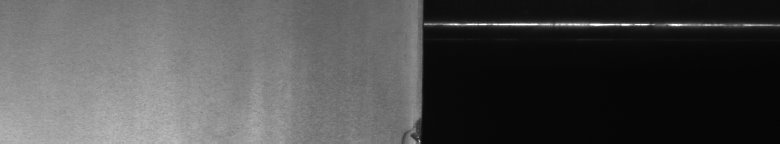hb: (403, 115, 412, 136)
